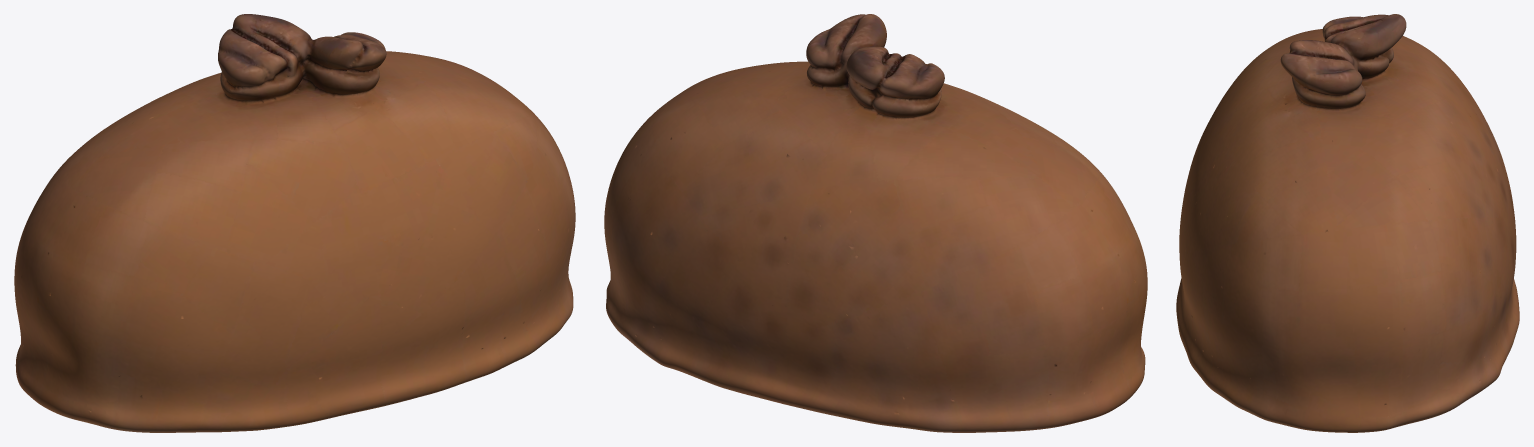
Rendered from arabica-cafe.glb.
The picture shows the model from 3 angles, left to right: view 1: azimuth 30°, elevation 25°; view 2: azimuth 150°, elevation 25°; view 3: azimuth 270°, elevation 25°; orthographic projection. The views are drawn at different scales.
Bounding box in the file's own units: 2 × 1.17 × 1.23.
1 material, 1 textured.
